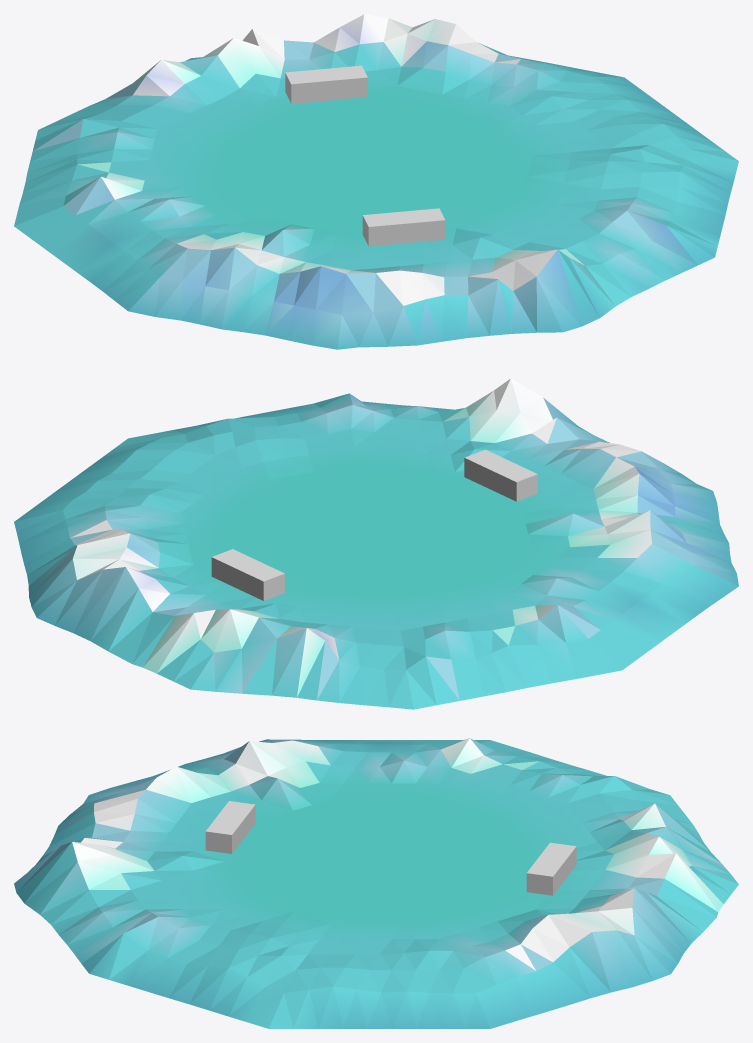
Rendered from terrain_01.fbx.
The picture shows the model from 3 angles, top to bottom: view 1: azimuth 30°, elevation 25°; view 2: azimuth 150°, elevation 25°; view 3: azimuth 270°, elevation 25°; orthographic projection. The views are drawn at different scales.
Visible parts, largest first — view 1: Icosphere, Cube, Cube.001; view 2: Icosphere, Cube, Cube.001; view 3: Icosphere, Cube.001, Cube.
Boxes of the visible parts, x1,y1,x2,y2 form: Icosphere: [14, 14, 738, 349]; Cube: [362, 208, 445, 246]; Cube.001: [285, 65, 367, 103]; Icosphere: [14, 378, 738, 709]; Cube: [464, 449, 537, 501]; Cube.001: [211, 549, 284, 600]; Icosphere: [14, 738, 738, 1028]; Cube.001: [526, 842, 576, 895]; Cube: [205, 801, 255, 853].
Size of the model in its own units: 5257 by 452 by 5565.
